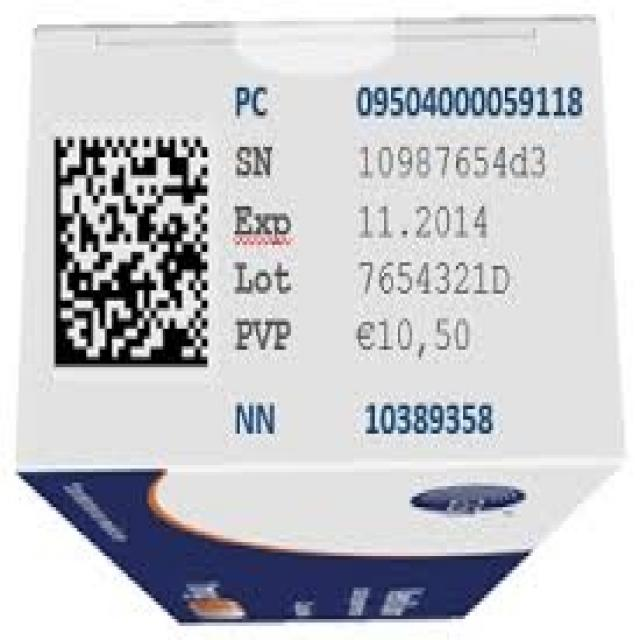datamatrix: (48, 124, 215, 383)
